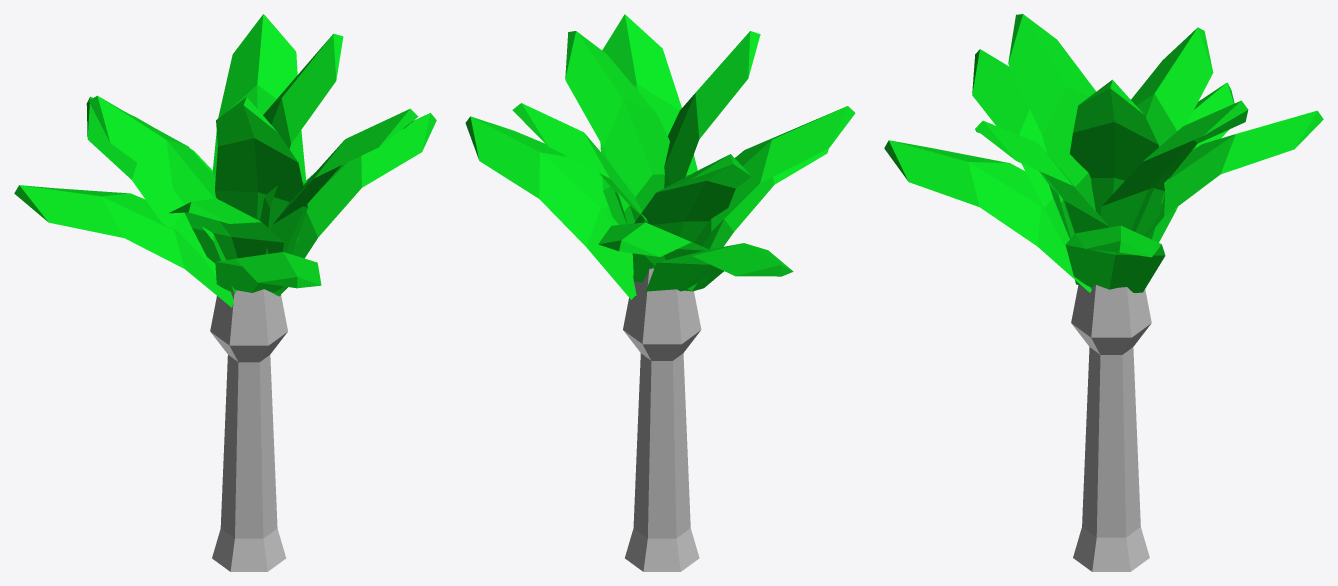
Rendered from tree3.fbx.
3 renders of one model, left to right at view 1: azimuth 30°, elevation 25°; view 2: azimuth 150°, elevation 25°; view 3: azimuth 270°, elevation 25°, orthographic. The views are drawn at different scales.
Parts seen in each view (by area): view 1: Tree_Type7_03_mesh; view 2: Tree_Type7_03_mesh; view 3: Tree_Type7_03_mesh.
Boxes of the visible parts, x1=… form: Tree_Type7_03_mesh: x1=14, y1=14, x2=436, y2=571; Tree_Type7_03_mesh: x1=465, y1=14, x2=855, y2=571; Tree_Type7_03_mesh: x1=884, y1=14, x2=1323, y2=571.
Bounding box in the file's own units: 313 × 409 × 312.
